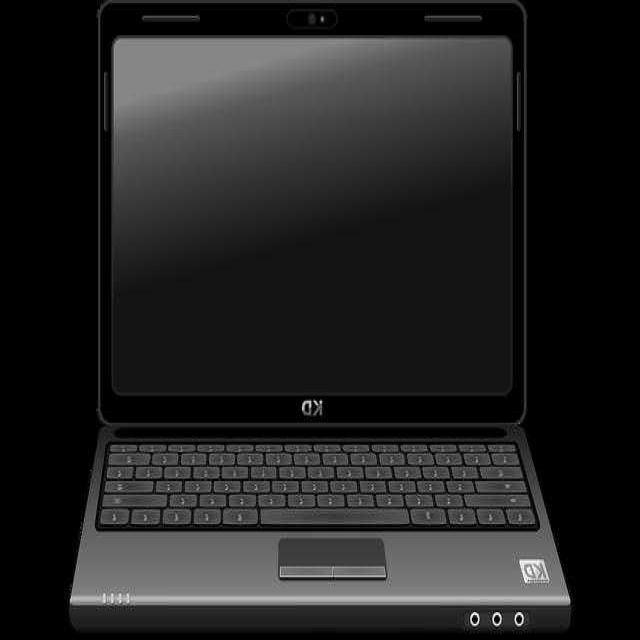laptop: (75, 6, 532, 630)
